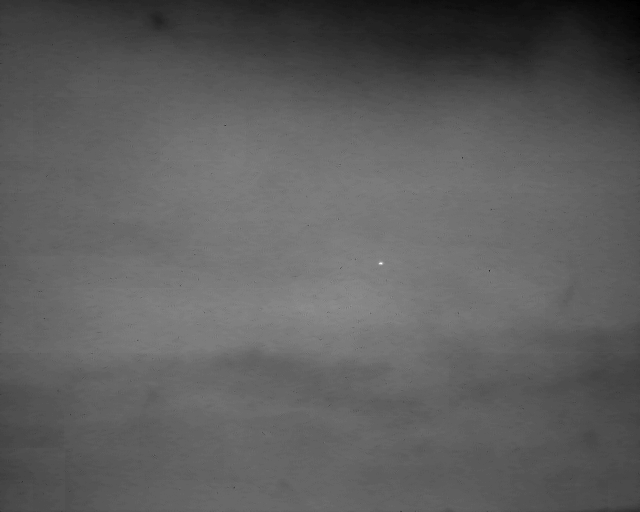Target: (379, 262, 386, 266)
